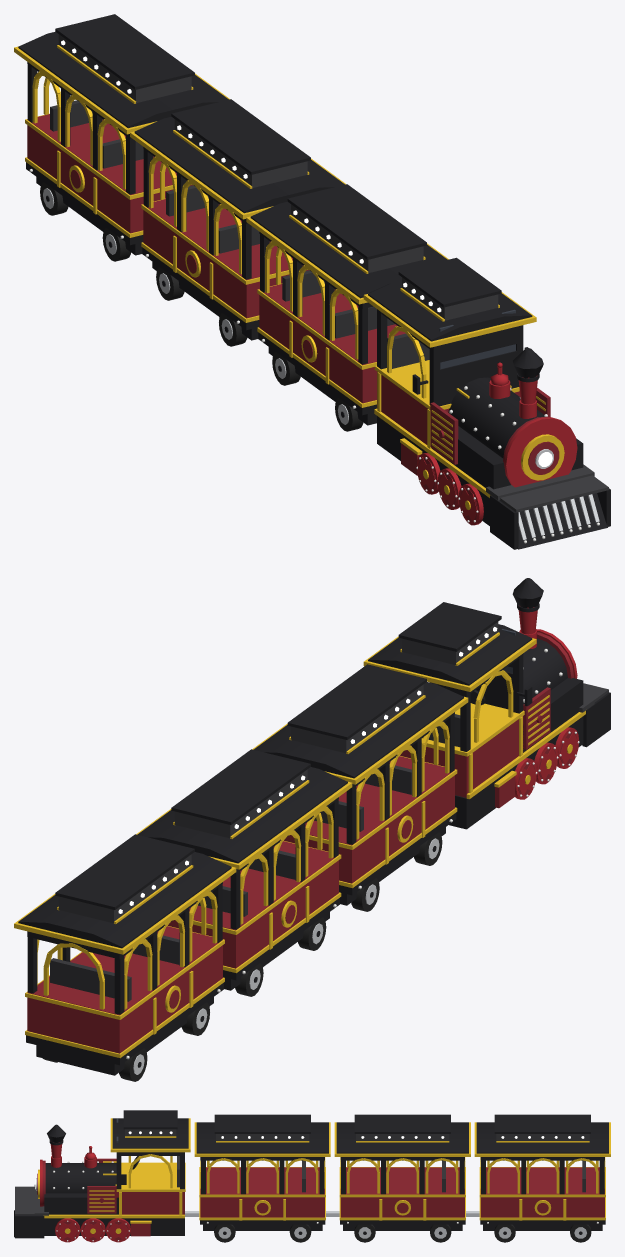
3 views of the same model, one above another, from view 1: azimuth 30°, elevation 25°; view 2: azimuth 150°, elevation 25°; view 3: azimuth 270°, elevation 25° (orthographic). The views are drawn at different scales.
Parts seen in each view (by area): view 1: base; view 2: base; view 3: base.
Boxes of the visible parts, x1,y1,x2,y2 form: base: [14, 14, 610, 549]; base: [14, 578, 610, 1081]; base: [14, 1110, 610, 1242].
Size of the model in its own units: 1.64 by 2.5 by 12.23.
